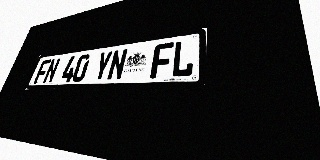0: (71, 54, 91, 82)
4: (60, 55, 79, 83)
F: (150, 42, 174, 79), (33, 59, 51, 84)
L: (170, 39, 195, 78)
N: (106, 48, 128, 81), (42, 58, 61, 84)
Y: (92, 51, 113, 81)
